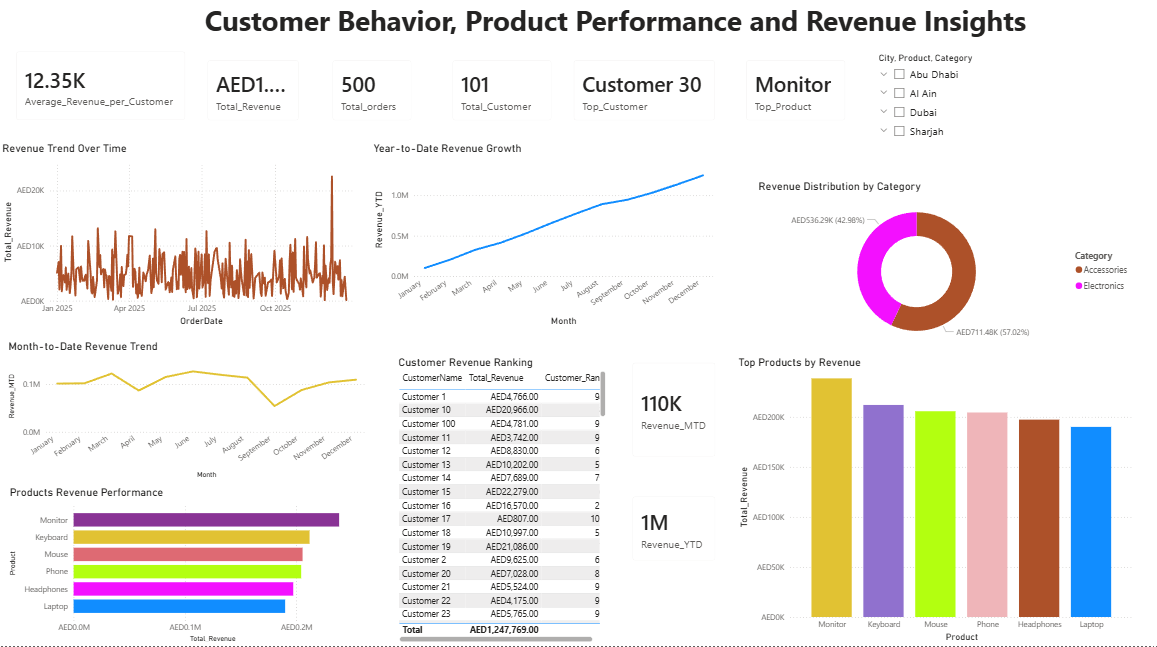

Layout of this report page (visuals, bound fields, positions):
{"tool":"powerbi","page":{"name":"Page 1","canvas":[1800,1000],"ordinal":0},"visuals":[{"type":"cardVisual","fields":{"Data":["CustomerAnalytics.Average_Revenue_per_Customer"]},"box":[9.6,65.6,295.2,140.9],"z":0},{"type":"cardVisual","fields":{"Data":["CustomerAnalytics.Total_Revenue"]},"box":[304.9,79.1,175.6,127.4],"z":1000},{"type":"cardVisual","fields":{"Data":["CustomerAnalytics.Total_orders"]},"box":[497.9,79.1,156.3,127.4],"z":2000},{"type":"cardVisual","fields":{"Data":["CustomerAnalytics.Total_Customer"]},"box":[683.1,79.1,187.2,127.4],"z":3000},{"type":"cardVisual","fields":{"Data":["CustomerAnalytics.Top_Customer"]},"box":[870.3,79.1,252.8,127.4],"z":4000},{"type":"cardVisual","fields":{"Data":["CustomerAnalytics.Top_Product"]},"box":[1136.6,79.1,187.2,127.4],"z":5000},{"type":"lineChart","title":"Revenue Trend Over Time","fields":{"Category":["CustomerAnalytics.OrderDate.Variation.Date Hierarchy.Month"],"Y":["CustomerAnalytics.Total_Revenue"]},"box":[0,221.9,565.4,289.5],"z":6000},{"type":"clusteredBarChart","title":"Products Revenue Performance","fields":{"Category":["CustomerAnalytics.Product"],"Y":["CustomerAnalytics.Total_Revenue"]},"box":[11.6,752.6,563.5,247],"z":7000},{"type":"donutChart","title":"Revenue Distribution by Category","fields":{"Category":["CustomerAnalytics.Category"],"Y":["CustomerAnalytics.Total_Revenue"]},"box":[1167.5,279.8,588.6,266.3],"z":8000},{"type":"slicer","fields":{"Values":["CustomerAnalytics.City","CustomerAnalytics.Product","CustomerAnalytics.Category"]},"box":[1345,79.1,389.8,164],"z":9000},{"type":"tableEx","title":"Customer Revenue Ranking","fields":{"Values":["CustomerAnalytics.CustomerName","CustomerAnalytics.Total_Revenue","CustomerAnalytics.Customer_Rank"]},"box":[611.7,551.9,330,447.7],"z":10000},{"type":"lineChart","title":"Year-to-Date Revenue Growth","fields":{"Category":["Date Table.Date.Variation.Date Hierarchy.Month"],"Y":["CustomerAnalytics.Revenue_YTD"]},"box":[573.1,221.9,534.5,289.5],"z":11000},{"type":"lineChart","title":"Month-to-Date Revenue Trend","fields":{"Category":["Date Table.Date.Variation.Date Hierarchy.Month"],"Y":["CustomerAnalytics.Revenue_MTD"]},"box":[9.6,526.8,563.5,220],"z":12000},{"type":"cardVisual","fields":{"Data":["CustomerAnalytics.Revenue_MTD"]},"box":[961,546.1,162.1,179.5],"z":13000},{"type":"cardVisual","fields":{"Data":["CustomerAnalytics.Revenue_YTD"]},"box":[961,752.6,162.1,133.1],"z":14000},{"type":"clusteredColumnChart","title":"Top Products by Revenue","fields":{"Y":["CustomerAnalytics.Total_Revenue"],"Category":["CustomerAnalytics.Product"]},"box":[1136.6,551.9,619.4,447.7],"z":15000},{"type":"textbox","box":[312.6,0,1298.7,79.1],"z":16000}]}

Visuals, with their boxes in screenshot pixels (x1, y1, x2, y2), scaled from the page's 1800x1000 canvas onto the 1157x647 screenshot:
cardVisual - CustomerAnalytics.Average_Revenue_per_Customer: x1=6 y1=42 x2=196 y2=134
cardVisual - CustomerAnalytics.Total_Revenue: x1=196 y1=51 x2=309 y2=134
cardVisual - CustomerAnalytics.Total_orders: x1=320 y1=51 x2=421 y2=134
cardVisual - CustomerAnalytics.Total_Customer: x1=439 y1=51 x2=559 y2=134
cardVisual - CustomerAnalytics.Top_Customer: x1=559 y1=51 x2=722 y2=134
cardVisual - CustomerAnalytics.Top_Product: x1=731 y1=51 x2=851 y2=134
"Revenue Trend Over Time" lineChart: x1=0 y1=144 x2=363 y2=331
"Products Revenue Performance" clusteredBarChart: x1=7 y1=487 x2=370 y2=646
"Revenue Distribution by Category" donutChart: x1=750 y1=181 x2=1129 y2=353
slicer - CustomerAnalytics.City x CustomerAnalytics.Product: x1=865 y1=51 x2=1115 y2=157
"Customer Revenue Ranking" tableEx: x1=393 y1=357 x2=605 y2=646
"Year-to-Date Revenue Growth" lineChart: x1=368 y1=144 x2=712 y2=331
"Month-to-Date Revenue Trend" lineChart: x1=6 y1=341 x2=368 y2=483
cardVisual - CustomerAnalytics.Revenue_MTD: x1=618 y1=353 x2=722 y2=469
cardVisual - CustomerAnalytics.Revenue_YTD: x1=618 y1=487 x2=722 y2=573
"Top Products by Revenue" clusteredColumnChart: x1=731 y1=357 x2=1129 y2=646
textbox: x1=201 y1=0 x2=1036 y2=51
